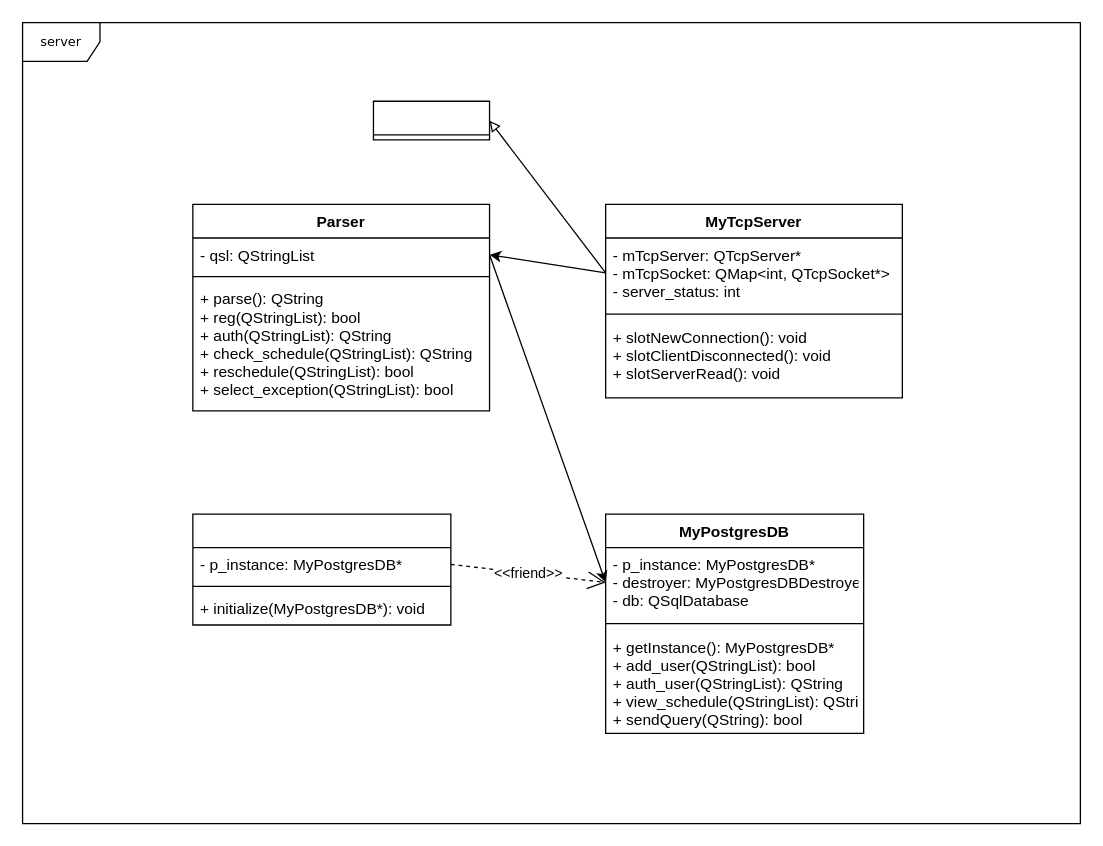
Image size: 1103x846. Some labels were removed from this diagram. The shapes that lost their labels are listed below. From the top down, each one's box as (x1, y1, x2, y2) in pixels, then its label:
(372, 100, 490, 140): QObject
(192, 513, 451, 625): MyPostgresDBDestroyer
